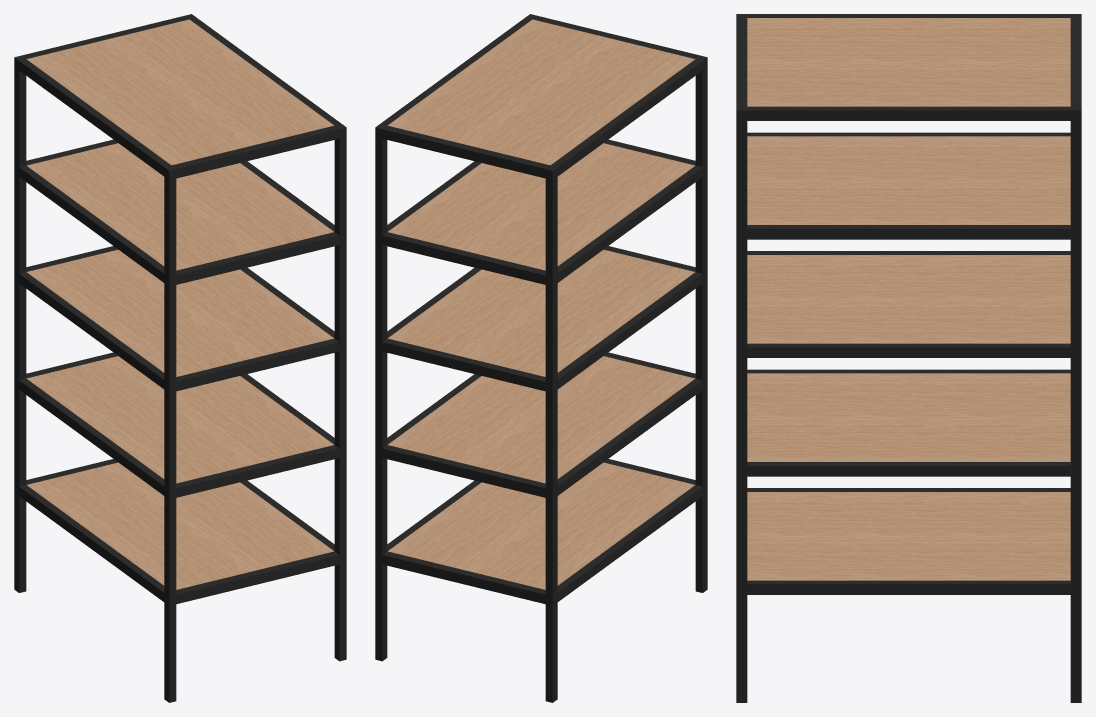
File: Shelf_FiveTier (1).glb
3 renders of one model, left to right at view 1: azimuth 30°, elevation 25°; view 2: azimuth 150°, elevation 25°; view 3: azimuth 270°, elevation 25°, orthographic. The views are drawn at different scales.
Parts seen in each view (by area): view 1: Cube; view 2: Cube; view 3: Cube.
Boxes of the visible parts, box(x1,y1,x2,y2) form: Cube: box(14, 14, 346, 702); Cube: box(375, 14, 707, 702); Cube: box(736, 14, 1081, 702).
Bounding box in the file's own units: 2.33 × 6.68 × 3.53.
2 materials, 1 textured.
